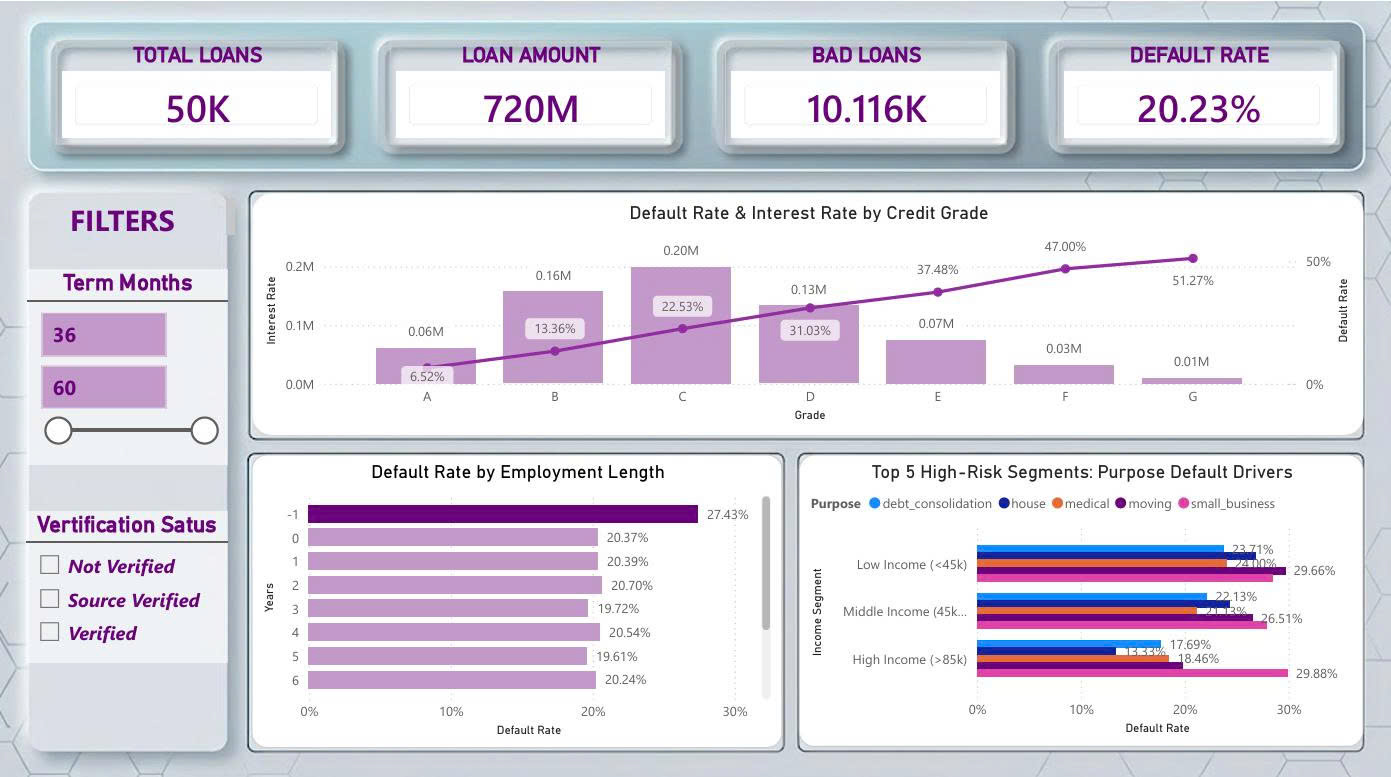

What the dashboard file says about the page in this screenshot:
{"tool":"powerbi","page":{"name":"Page 1","canvas":[1280,720],"ordinal":0},"visuals":[{"type":"cardVisual","title":"TOTAL LOANS","fields":{"Data":["vw_CleanedLoanData.Total_Loans"]},"box":[50.8,37,259.3,94.7],"z":0},{"type":"cardVisual","title":"LOAN AMOUNT","fields":{"Data":["Sum(vw_CleanedLoanData.loan_amnt)"]},"box":[358.1,37,259.3,94.7],"z":1000},{"type":"cardVisual","title":"BAD LOANS","fields":{"Data":["vw_CleanedLoanData.Bad_Loans"]},"box":[665.5,37,259.3,94.7],"z":2000},{"type":"cardVisual","title":"DEFAULT RATE","fields":{"Data":["vw_CleanedLoanData.Default_Rate"]},"box":[971.5,37,259.3,94.7],"z":3000},{"type":"slicer","title":"Term Months","fields":{"Values":["vw_CleanedLoanData.term_months"]},"box":[24.7,247,183.9,179.8],"z":4000},{"type":"slicer","title":"Vertification Satus","fields":{"Values":["vw_CleanedLoanData.verification_status"]},"box":[24.1,469.3,184.6,138.7],"z":5000},{"type":"textbox","box":[12.3,177,208.6,45.3],"z":6000},{"type":"lineStackedColumnComboChart","title":"Default Rate & Interest Rate by Credit Grade","fields":{"Category":["vw_CleanedLoanData.grade"],"Y2":["vw_CleanedLoanData.Default_Rate"],"Y":["Sum(vw_CleanedLoanData.int_rate)"]},"box":[259.3,177,1020.9,222.3],"z":7000},{"type":"clusteredBarChart","title":"Default Rate by Employment Length","fields":{"Category":["vw_CleanedLoanData.emp_length_years"],"Y":["vw_CleanedLoanData.Default_Rate"]},"box":[230.5,417.2,488.5,270.3],"z":8000},{"type":"clusteredBarChart","title":"Top 5 High-Risk Segments: Purpose Default Drivers","fields":{"Category":["vw_CleanedLoanData.Income_Segment"],"Y":["vw_CleanedLoanData.Default_Rate"],"Series":["vw_CleanedLoanData.purpose"]},"box":[734.1,416.8,518.9,269.7],"z":9000}]}

Visuals, with their boxes in screenshot pixels (x1, y1, x2, y2), scaled from the page's 1280x720 canvas onto the 1391x777 screenshot:
"TOTAL LOANS" cardVisual: (55,40,337,142)
"LOAN AMOUNT" cardVisual: (389,40,671,142)
"BAD LOANS" cardVisual: (723,40,1005,142)
"DEFAULT RATE" cardVisual: (1056,40,1338,142)
"Term Months" slicer: (27,267,227,461)
"Vertification Satus" slicer: (26,506,227,656)
textbox: (13,191,240,240)
"Default Rate & Interest Rate by Credit Grade" lineStackedColumnComboChart: (282,191,1390,431)
"Default Rate by Employment Length" clusteredBarChart: (250,450,781,742)
"Top 5 High-Risk Segments: Purpose Default Drivers" clusteredBarChart: (798,450,1362,741)
